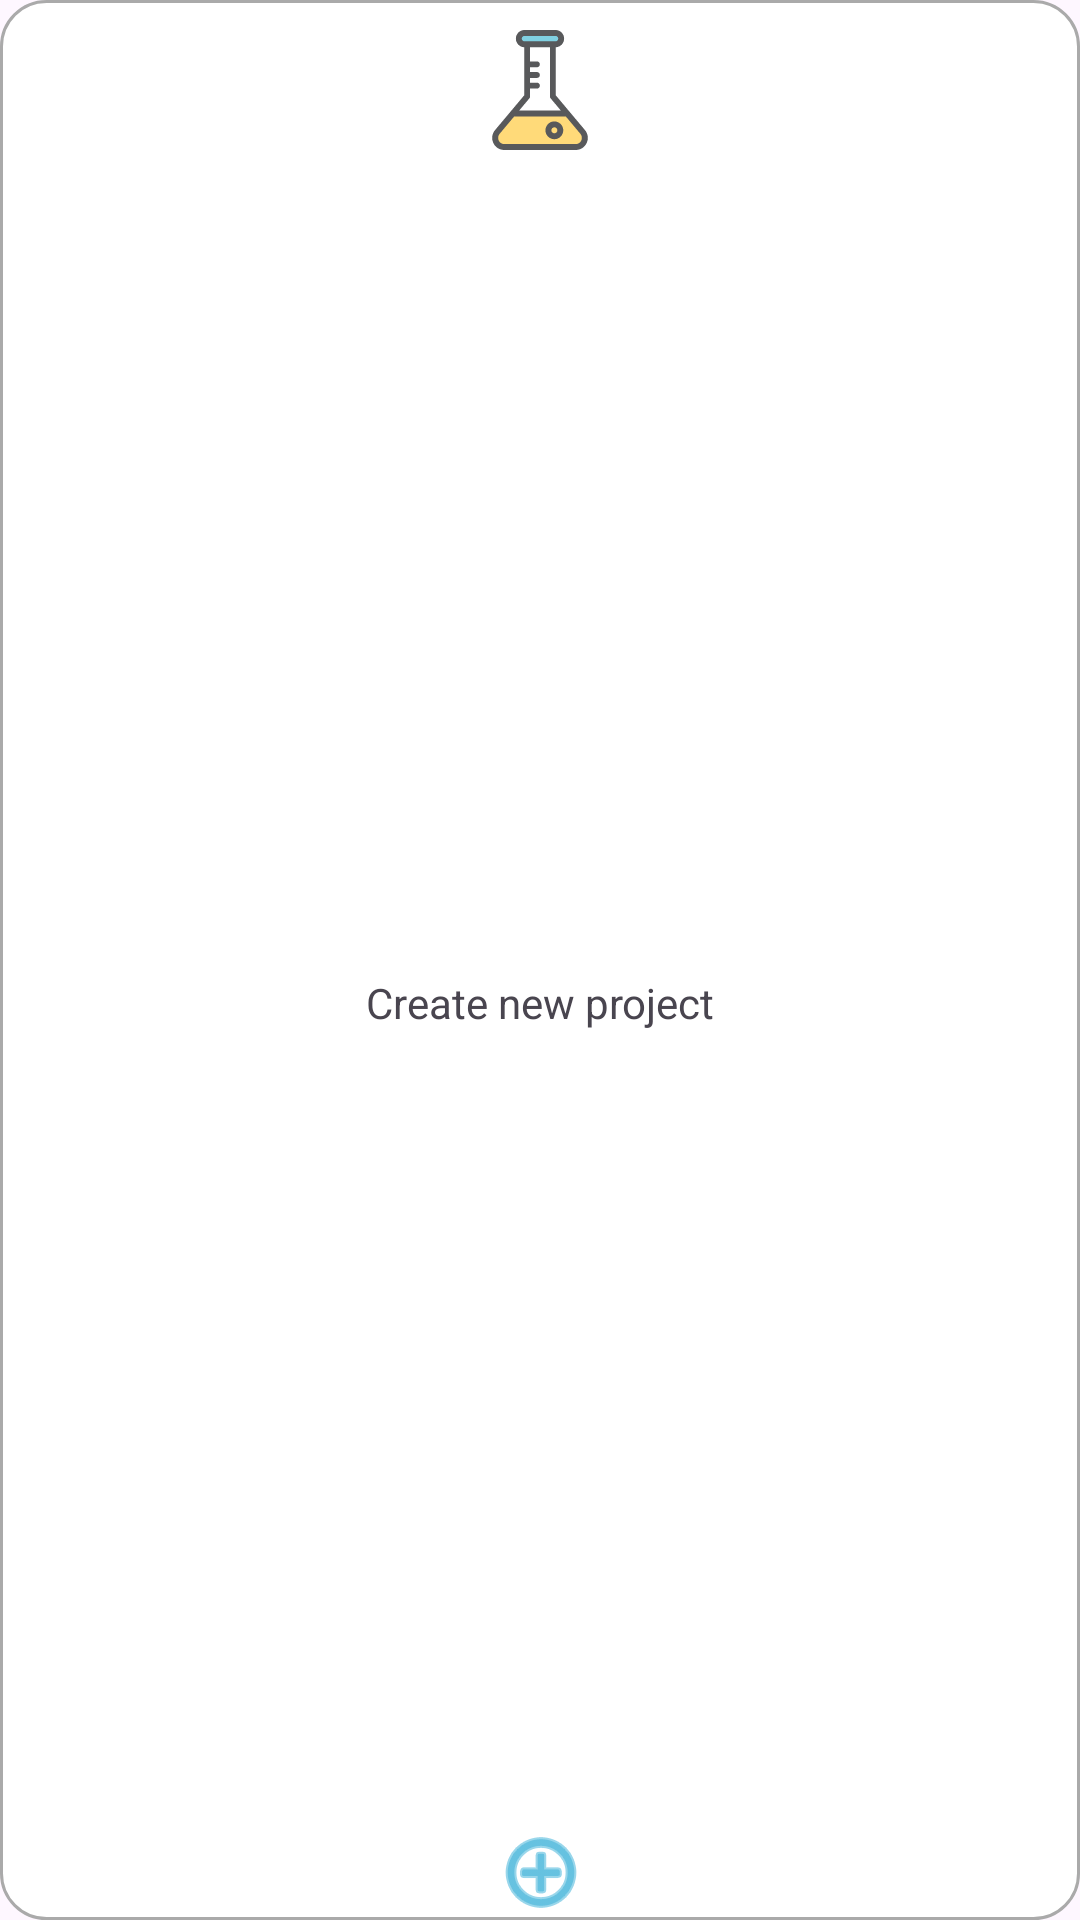

Icons on this 1080*1920 Android screen, each with its box as (x1, y1, x2, y2):
add: (505, 1837, 577, 1908)
